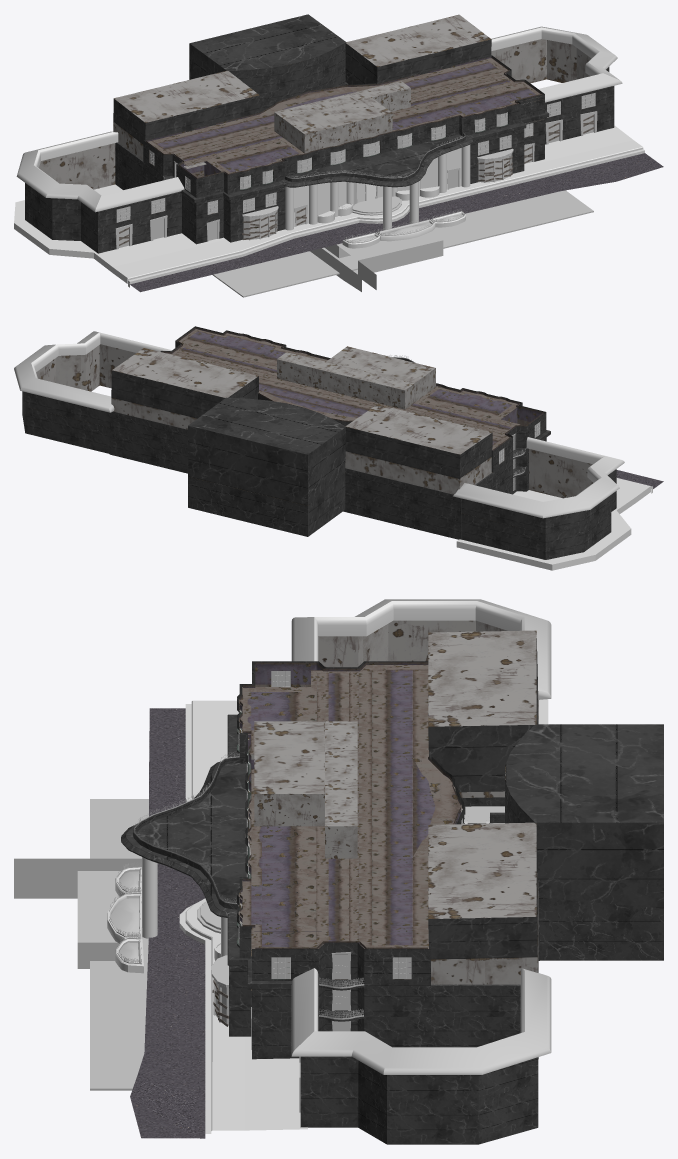
The model's file is SM_Loby_001.fbx.
The picture shows the model from 3 angles, top to bottom: view 1: azimuth 30°, elevation 25°; view 2: azimuth 150°, elevation 25°; view 3: azimuth 270°, elevation 25°; orthographic projection. The views are drawn at different scales.
Visible parts, largest first — view 1: SM_Loby_001; view 2: SM_Loby_001; view 3: SM_Loby_001.
Part boxes in pixels (bbox=[...]): SM_Loby_001: bbox=[14, 14, 663, 297]; SM_Loby_001: bbox=[14, 326, 663, 570]; SM_Loby_001: bbox=[14, 599, 663, 1144].
Size of the model in its own units: 10502 by 1838 by 6069.
